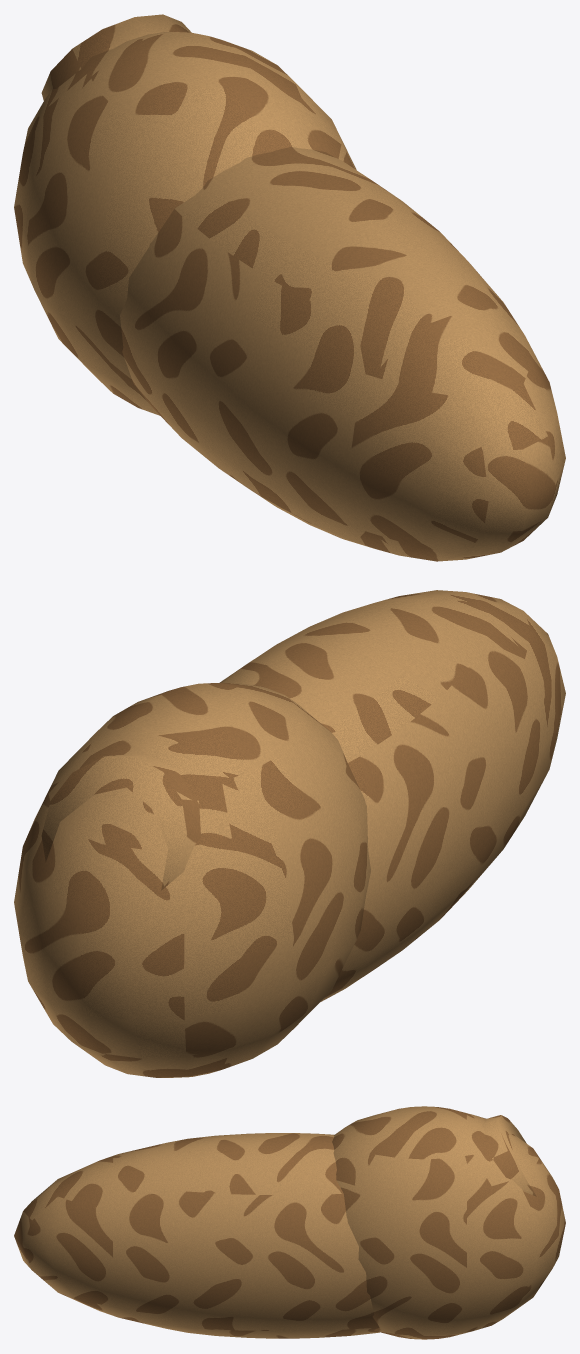
File: cuerpo.obj
3 views of the same model, one above another, from view 1: azimuth 30°, elevation 25°; view 2: azimuth 150°, elevation 25°; view 3: azimuth 270°, elevation 25° (orthographic). The views are drawn at different scales.
Parts seen in each view (by area): view 1: cuerpo; view 2: cuerpo; view 3: cuerpo.
Part boxes in pixels (x1,y1,x2,y2): cuerpo: [14, 14, 565, 561]; cuerpo: [14, 590, 565, 1077]; cuerpo: [14, 1106, 565, 1339].
Size of the model in its own units: 0.28 by 0.34 by 0.78.
Materials: 1 (1 with a texture image).
